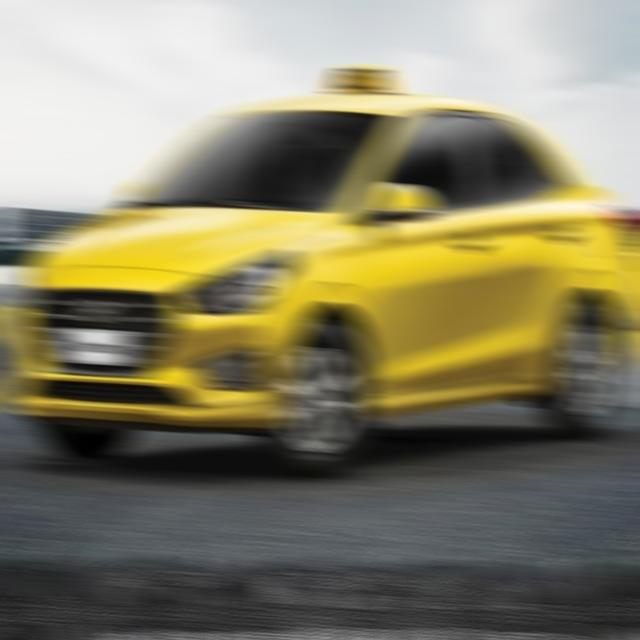Taxi: (4, 65, 640, 470)
